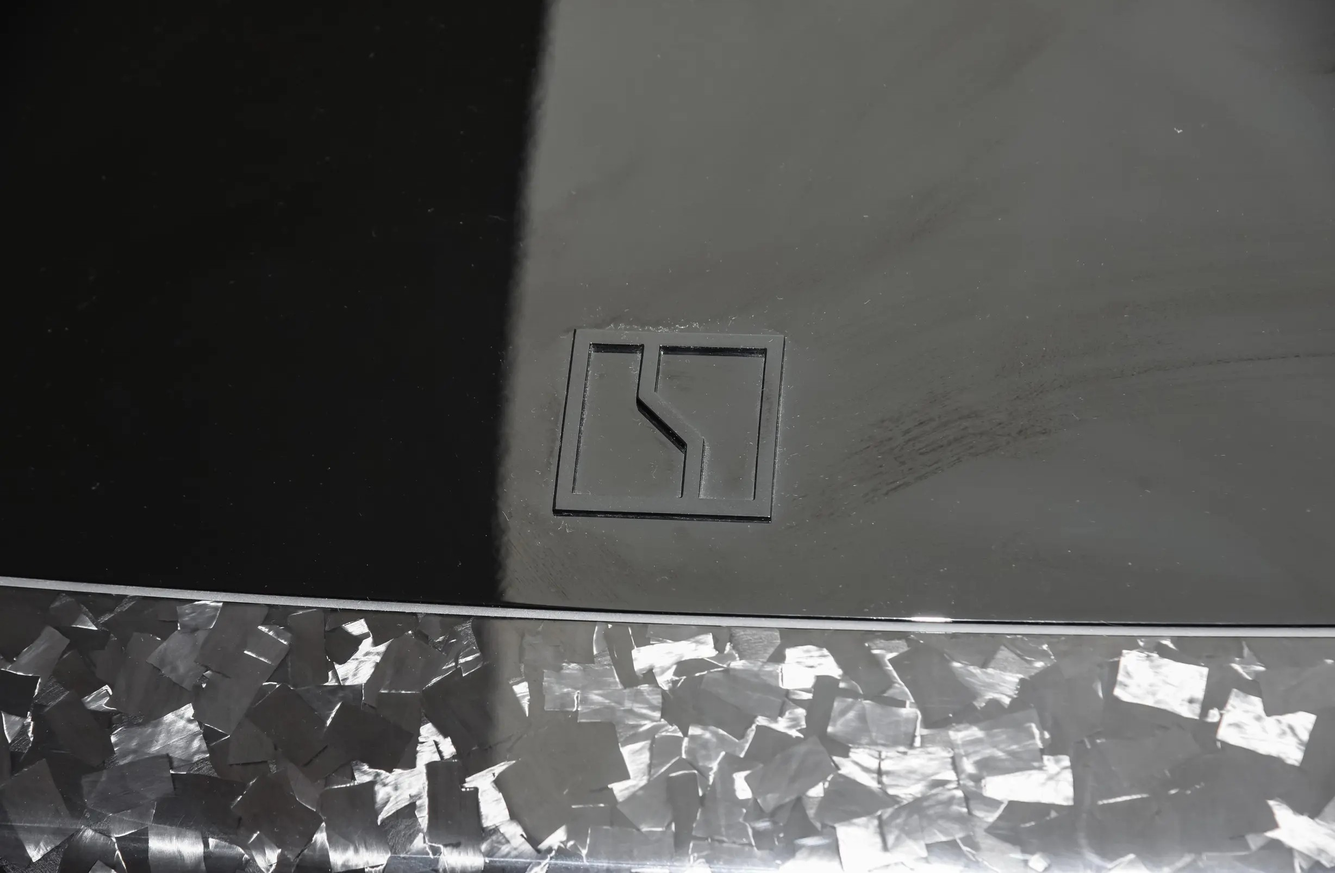ZEEKR: (553, 329, 784, 518)
